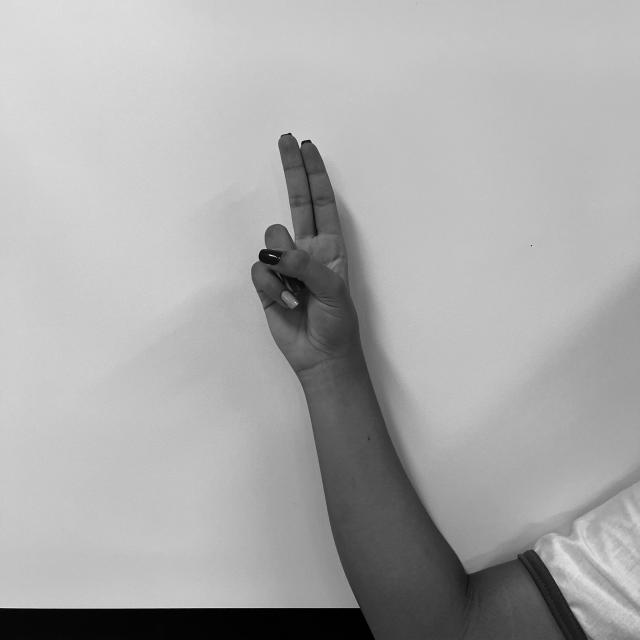Letra U: (249, 128, 365, 373)
